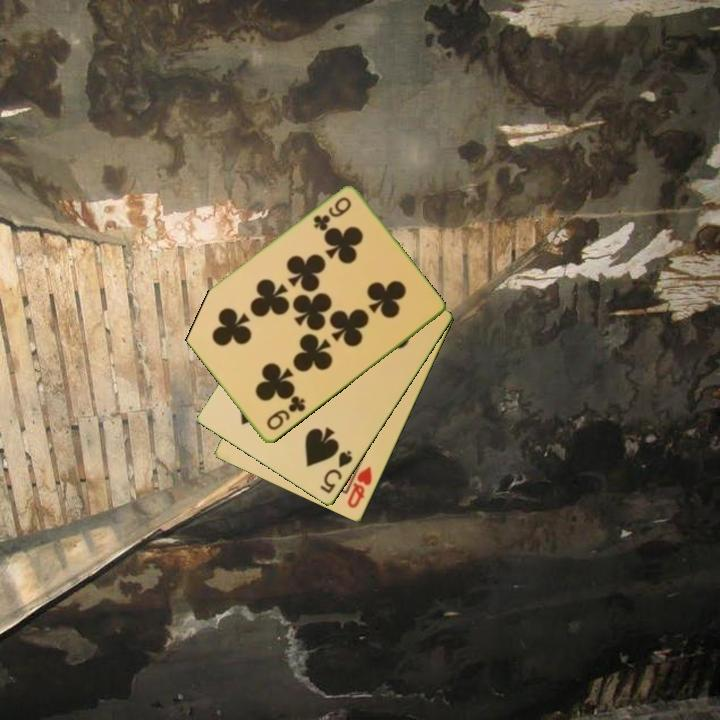5s: (316, 447, 355, 497)
9c: (263, 393, 308, 434), (309, 193, 354, 234)
Qh: (344, 463, 375, 512)
